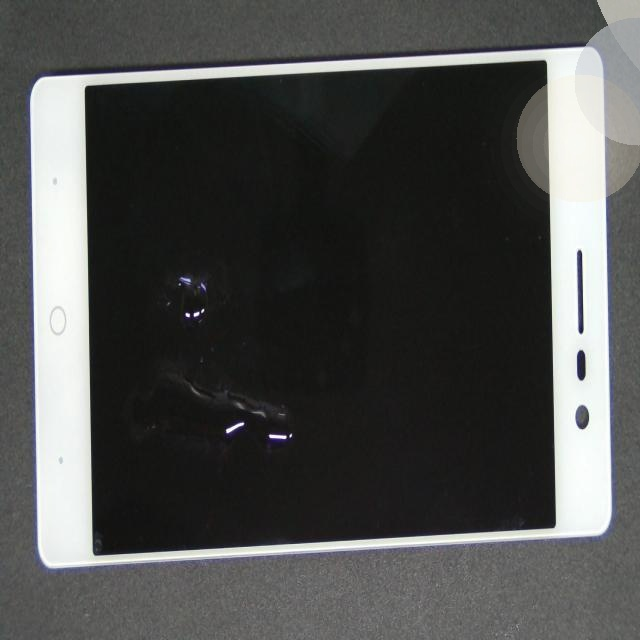oil: (103, 247, 404, 640), (110, 140, 294, 417)
